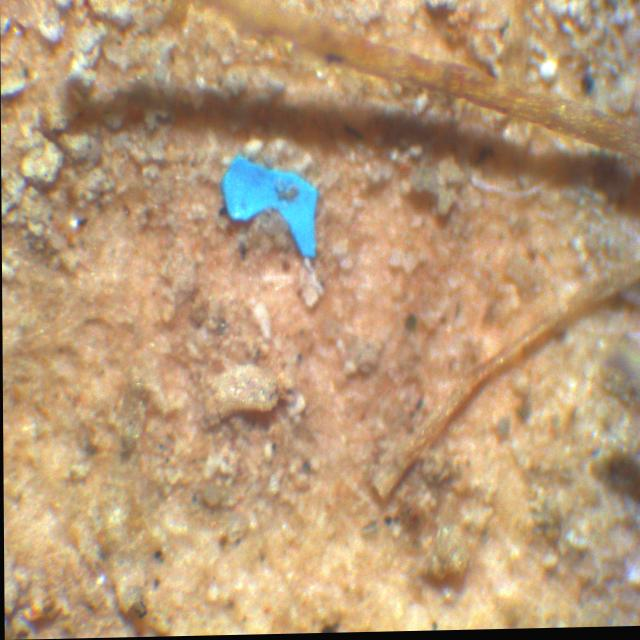microplastic: (220, 154, 318, 260)
